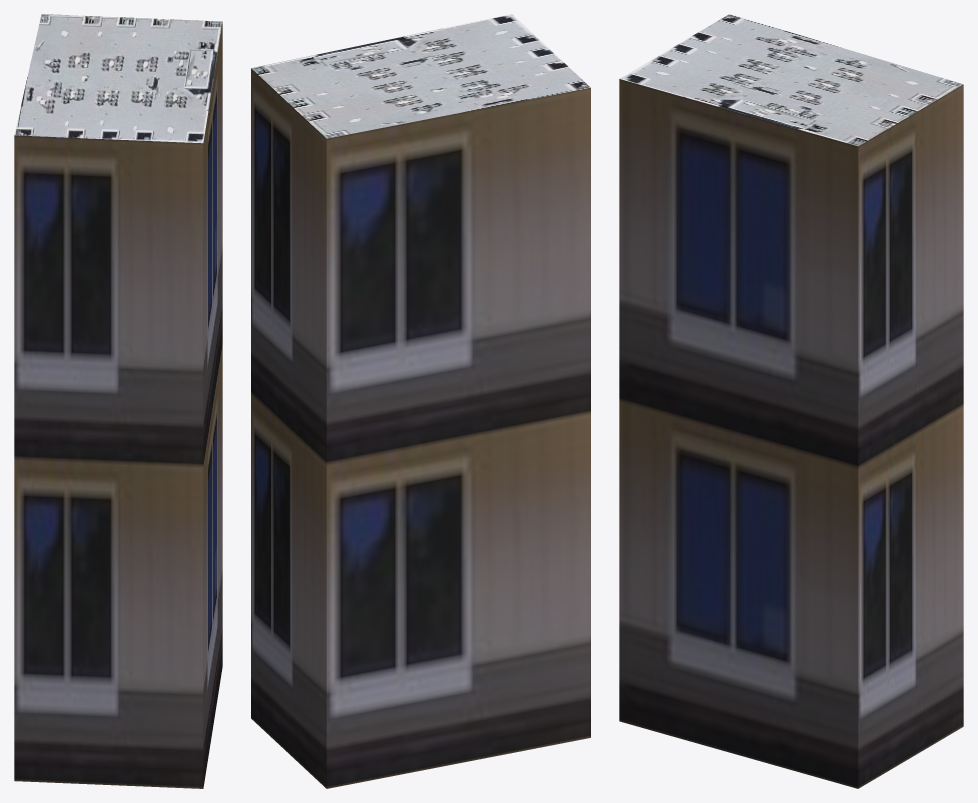
The model's file is ResTex__950.fbx.
The picture shows the model from 3 angles, left to right: view 1: azimuth 30°, elevation 25°; view 2: azimuth 150°, elevation 25°; view 3: azimuth 270°, elevation 25°; orthographic projection.
Parts seen in each view (by area): view 1: CityEngineMaterial_5_m, CityEngineMaterial_4_m; view 2: CityEngineMaterial_5_m, CityEngineMaterial_4_m; view 3: CityEngineMaterial_5_m, CityEngineMaterial_4_m.
Part boxes in pixels (x1=…): CityEngineMaterial_5_m: x1=14, y1=22, x2=222, y2=788; CityEngineMaterial_4_m: x1=14, y1=14, x2=222, y2=143; CityEngineMaterial_5_m: x1=251, y1=68, x2=590, y2=788; CityEngineMaterial_4_m: x1=251, y1=14, x2=590, y2=138; CityEngineMaterial_5_m: x1=619, y1=79, x2=963, y2=788; CityEngineMaterial_4_m: x1=620, y1=14, x2=962, y2=146.
Size of the model in its own units: 2.65 by 6 by 2.91.
2 materials, 2 textured.
